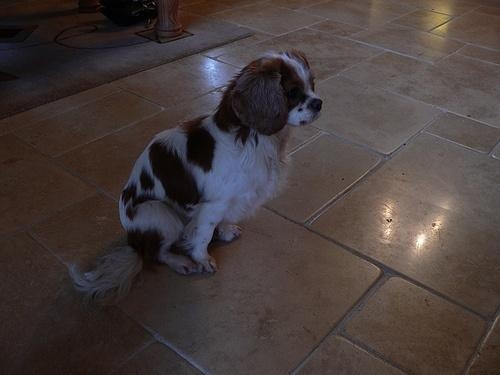dog: (60, 44, 331, 310)
